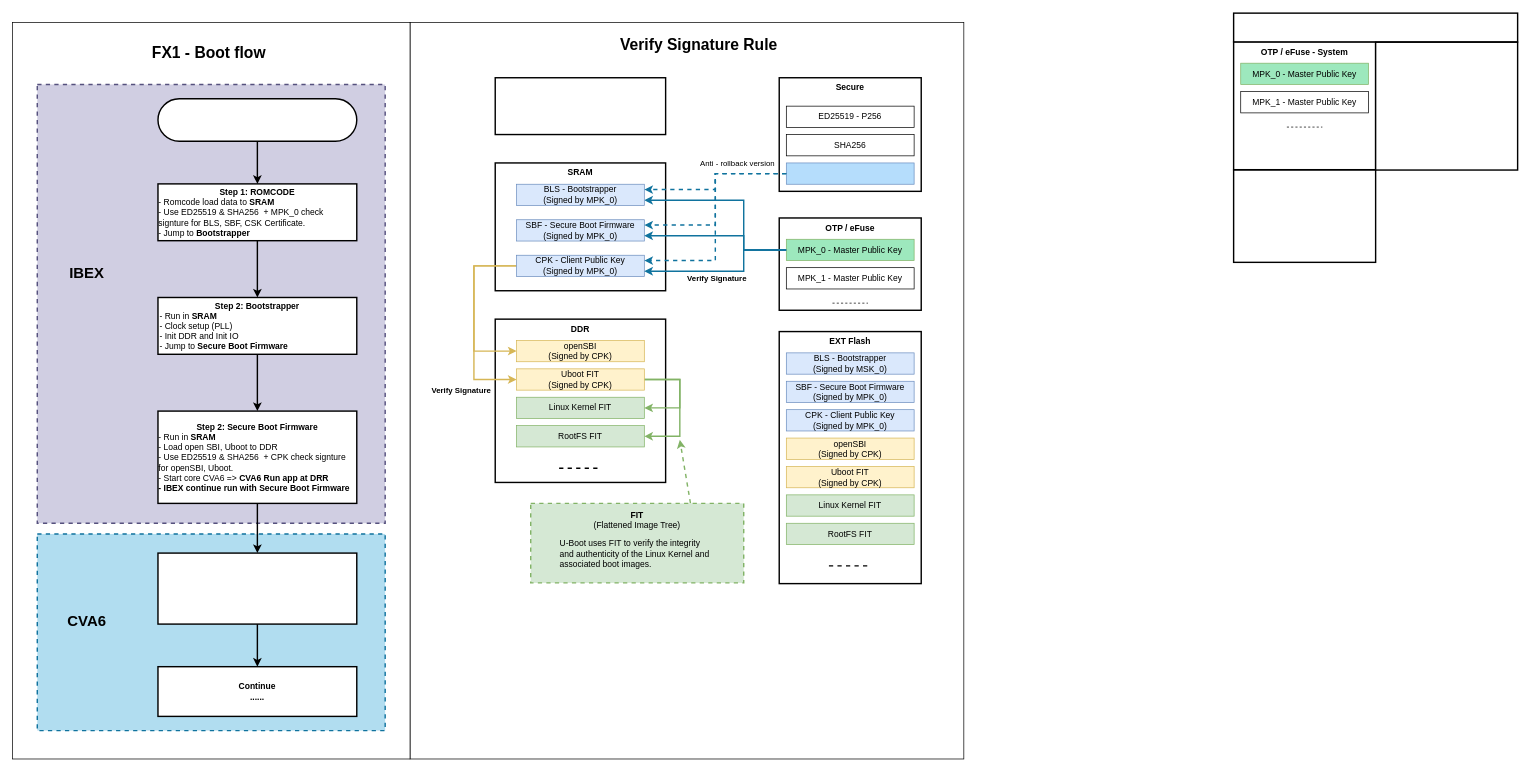
Image size: 1531x771. Some labels were removed from this diagram. Here are the shapes that lost their labels. From the top down, the centre of each, then its label:
(1375,27): OTP Controller
(257,120): Power ON
(580,106): ROM
(1446,105): OTP program
(850,173): MC - Monotonic Counter
(1304,216): OTP - User
(257,588): Step 3: Uboot - Run in DDR - Load & check Kernel + Rooltfs - Jump to Kernel
